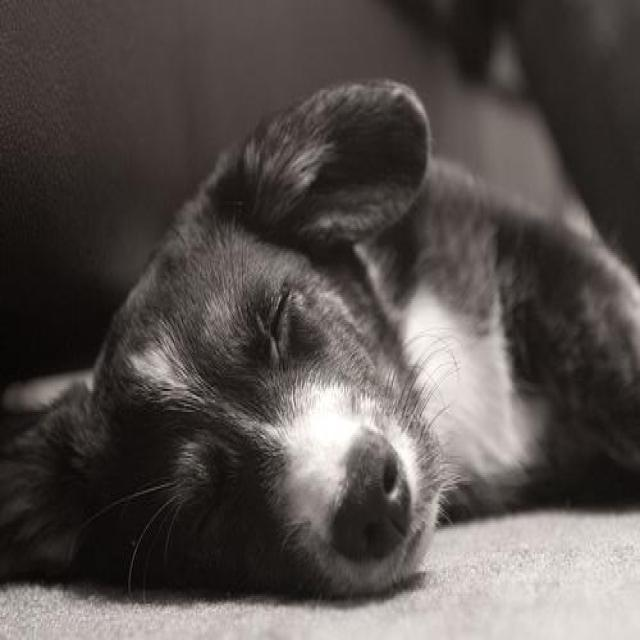relax: (40, 24, 509, 640)
